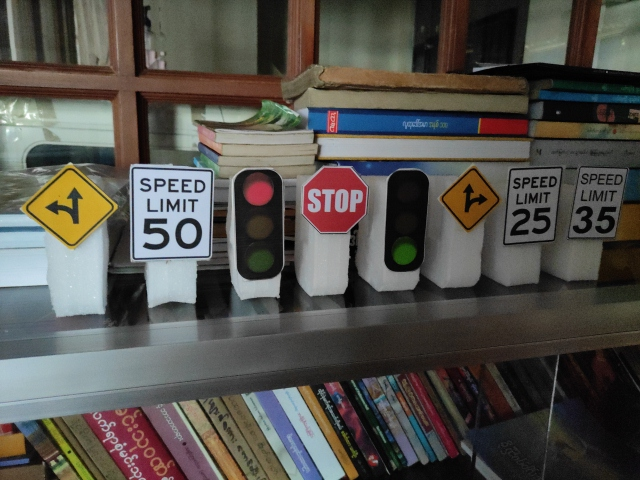Green Traffic Light: (383, 168, 430, 274)
Red Traffic Light: (232, 167, 287, 281)
Speed Limit 25: (502, 166, 564, 246)
Speed Limit 35: (567, 165, 630, 239)
Speed Limit 50: (129, 164, 214, 261)
Stop Sign: (301, 165, 369, 234)
Straight Or Left Sign: (22, 166, 116, 247), (440, 166, 500, 230)
